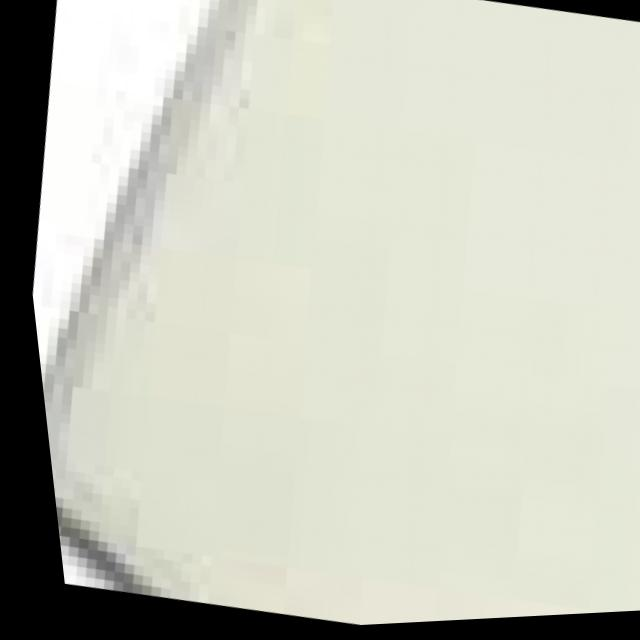metal-plates: (32, 1, 640, 629)
